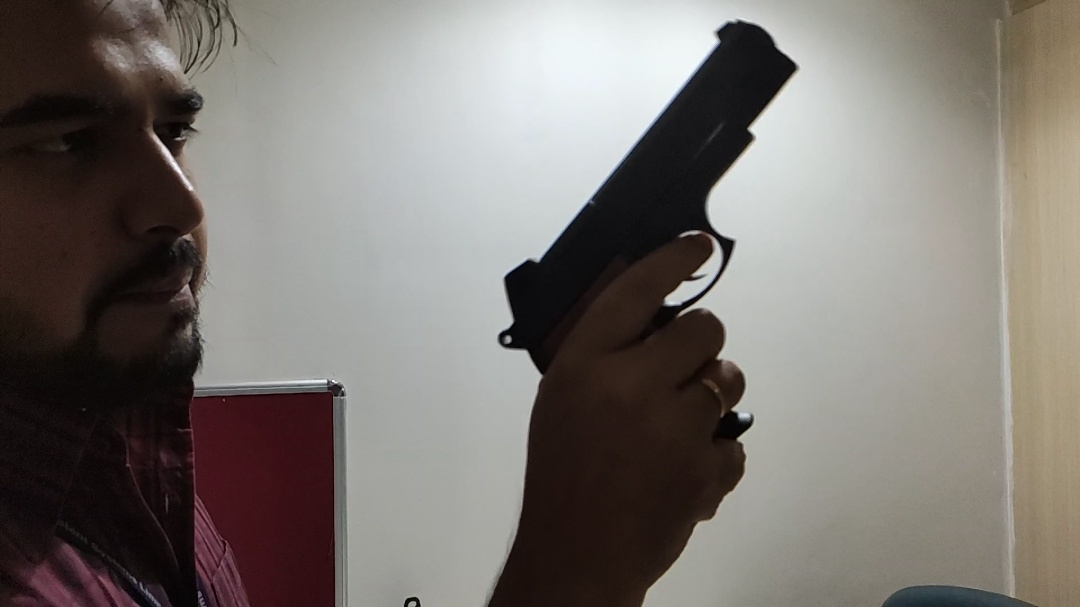gun: (491, 20, 804, 449)
